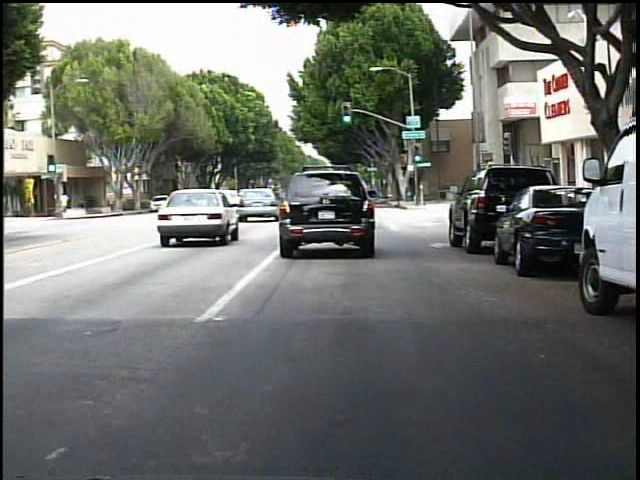person: (64, 190, 74, 217)
